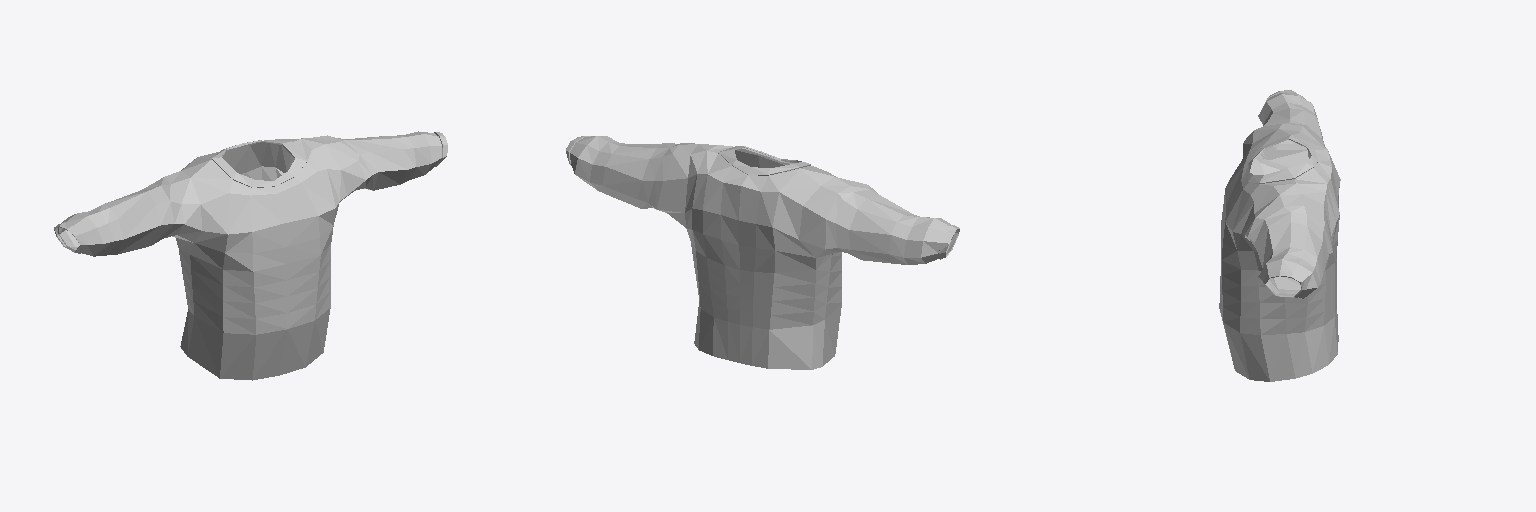
Rendered from Hazel Sweater.obj.
3 views of the same model, side by side, from view 1: azimuth 30°, elevation 25°; view 2: azimuth 150°, elevation 25°; view 3: azimuth 270°, elevation 25° (orthographic).
Visible parts, largest first — view 1: TurtleneckSweater6 Hazel, textureEditorIsolateSelectSet TurtleneckSweater6 Hazel; view 2: textureEditorIsolateSelectSet TurtleneckSweater6 Hazel, TurtleneckSweater6 Hazel; view 3: TurtleneckSweater6 Hazel, textureEditorIsolateSelectSet TurtleneckSweater6 Hazel.
Part boxes in pixels (x1,y1,x2,y2): TurtleneckSweater6 Hazel: (54,132,447,380); textureEditorIsolateSelectSet TurtleneckSweater6 Hazel: (54,131,442,356); textureEditorIsolateSelectSet TurtleneckSweater6 Hazel: (569,136,956,369); TurtleneckSweater6 Hazel: (566,136,959,368); TurtleneckSweater6 Hazel: (1219,91,1340,381); textureEditorIsolateSelectSet TurtleneckSweater6 Hazel: (1234,90,1335,377).
Size of the model in its own units: 4.67 by 2.39 by 1.28.